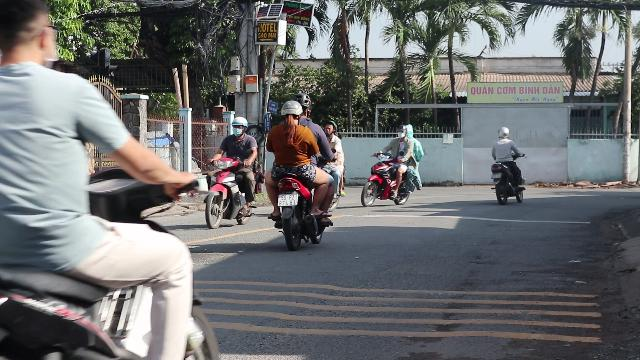helmet: (278, 99, 302, 123), (293, 93, 311, 115), (229, 116, 247, 136)
licenseplate: (277, 194, 297, 206)
motorcyclist: (0, 1, 214, 356), (262, 95, 340, 249), (201, 116, 259, 228)
nohelmet: (0, 1, 58, 69)
